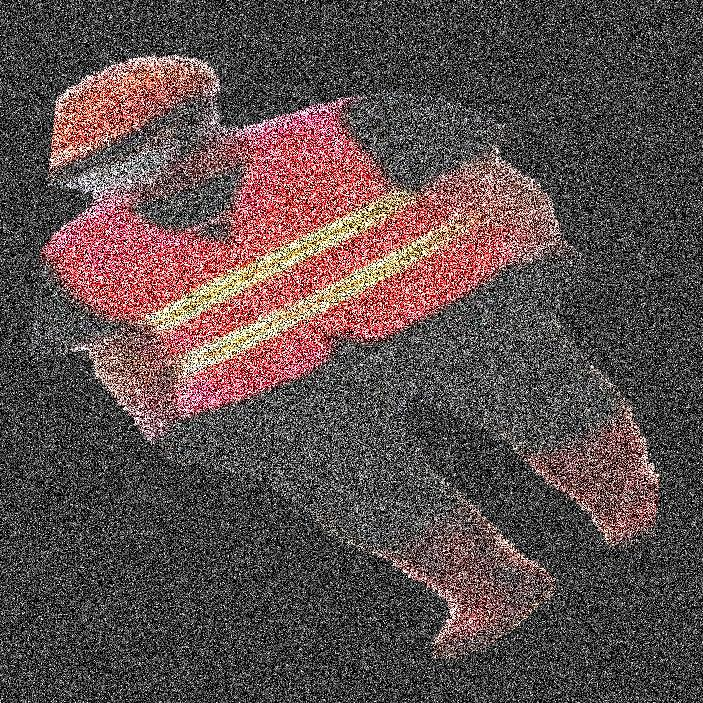Pessoa: (311, 0, 540, 702)
